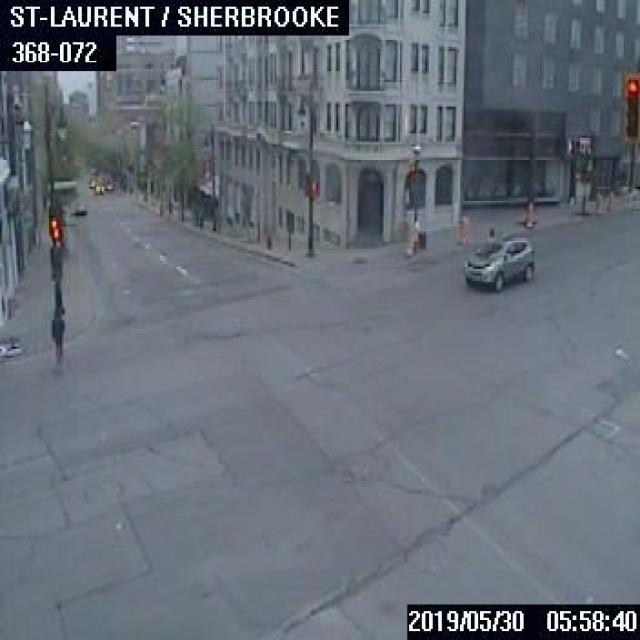construction: (402, 224, 413, 256), (453, 213, 464, 244), (524, 197, 532, 225)
vehicle: (463, 234, 533, 286), (70, 202, 86, 214), (93, 181, 103, 193)
